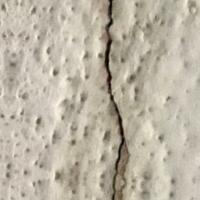crack: (82, 0, 143, 199)
